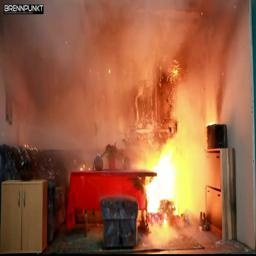fire: (127, 140, 196, 222)
